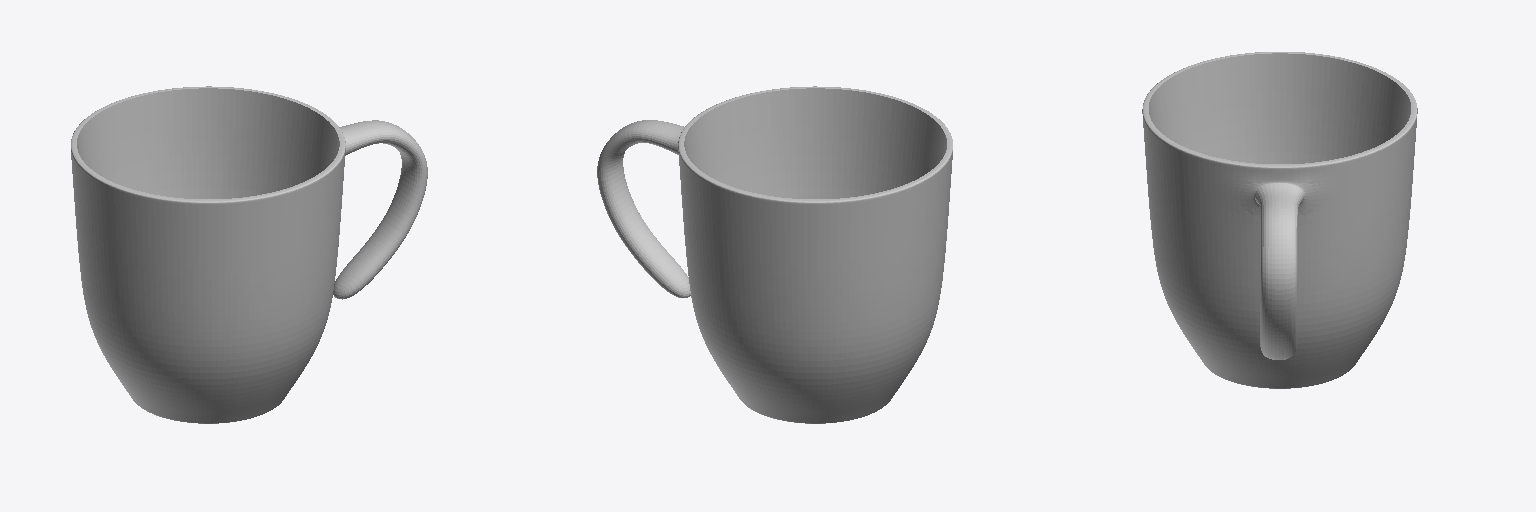
File: mug.obj
3 renders of one model, left to right at view 1: azimuth 30°, elevation 25°; view 2: azimuth 150°, elevation 25°; view 3: azimuth 270°, elevation 25°, orthographic.
Visible parts, largest first — view 1: bunny; view 2: bunny; view 3: bunny.
Part boxes in pixels (bbox=[...]): bunny: bbox=[71, 86, 427, 423]; bunny: bbox=[597, 86, 952, 423]; bunny: bbox=[1142, 52, 1417, 388].
Size of the model in its own units: 8.67 by 6.14 by 6.19.